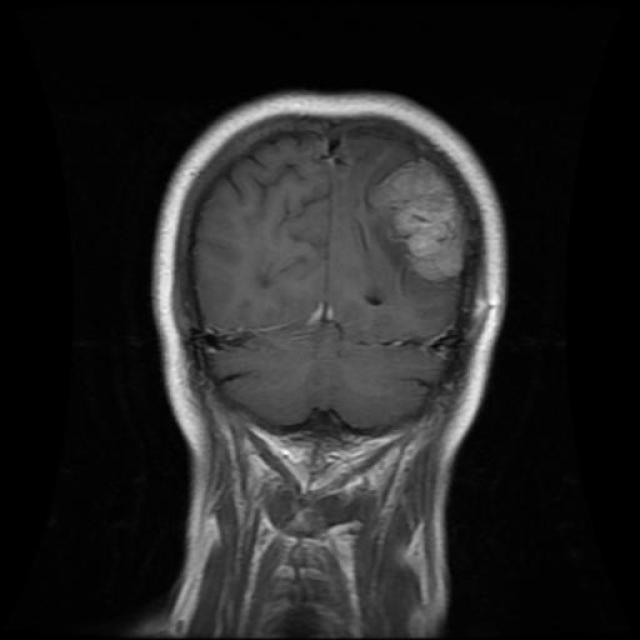meningioma: (375, 160, 462, 282)
